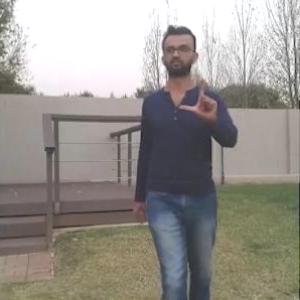land_hand: (177, 68, 221, 123)
